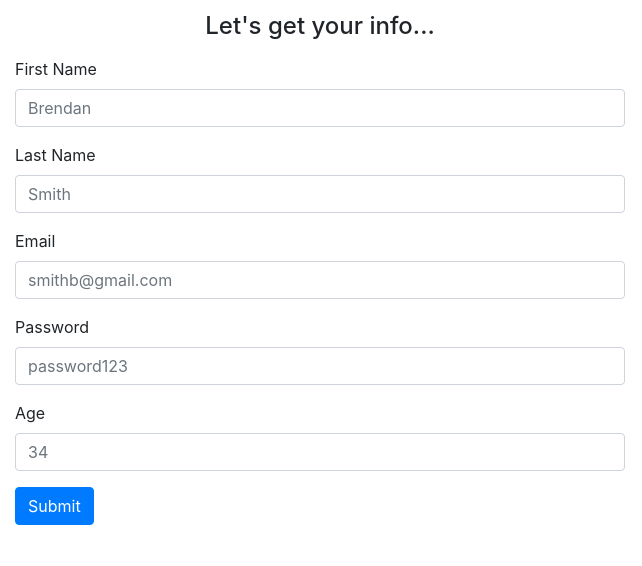
Scenario: password is invalid - second condition
Type "BRIAN" into the field labelled "First Name" at coordinates (320, 108), box [15,89,625,127]
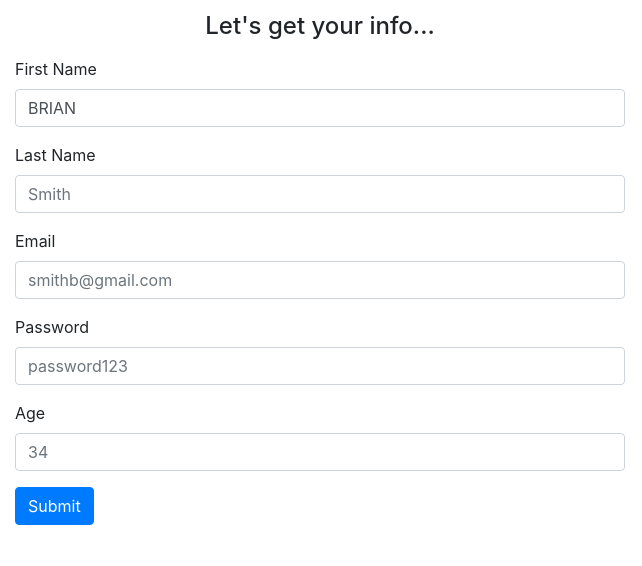
Type "THALHAMER" into the field labelled "Last Name" at coordinates (320, 194), box [15,175,625,213]
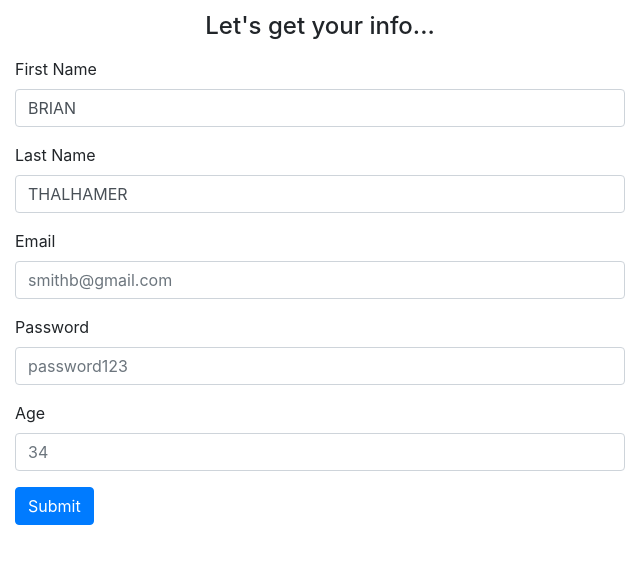
Type "thalhamerb@gmail.com" into the field labelled "Email" at coordinates (320, 280), box [15,261,625,299]
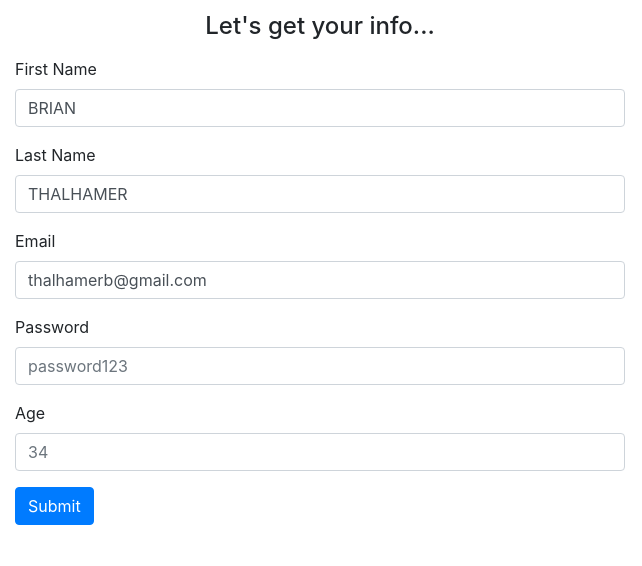
Type "Password" into the field labelled "Password" at coordinates (320, 366), box [15,347,625,385]
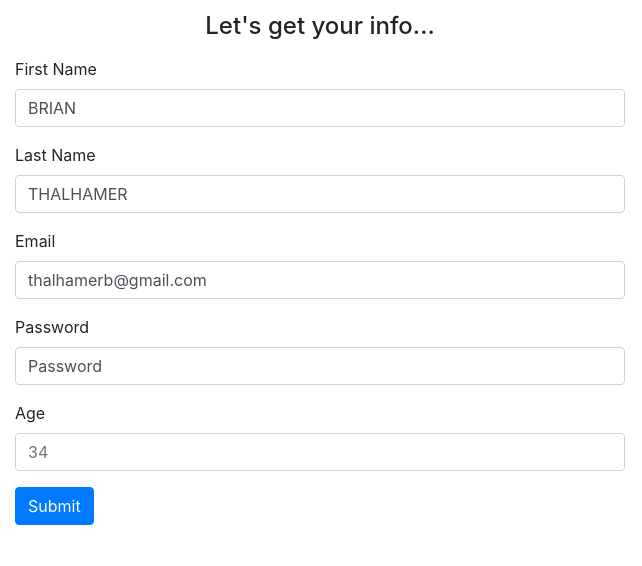
Click the button "Submit" at coordinates (54, 506), box [15,487,94,525]
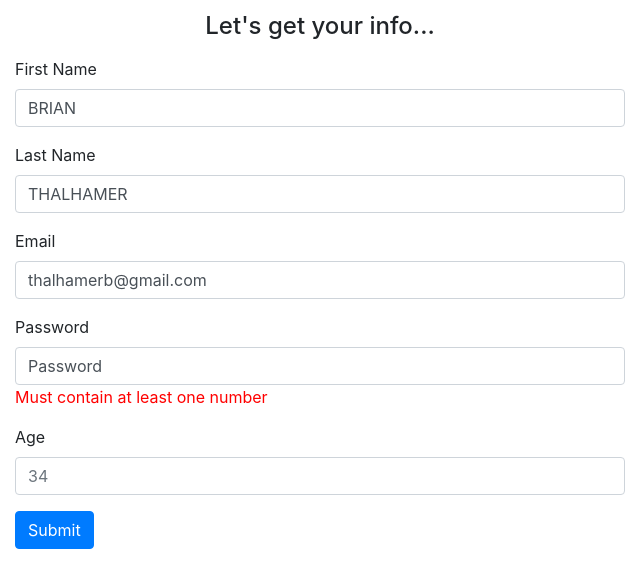
expect the text "Must contain at least one number" is shown: met, box [15,387,268,407]
